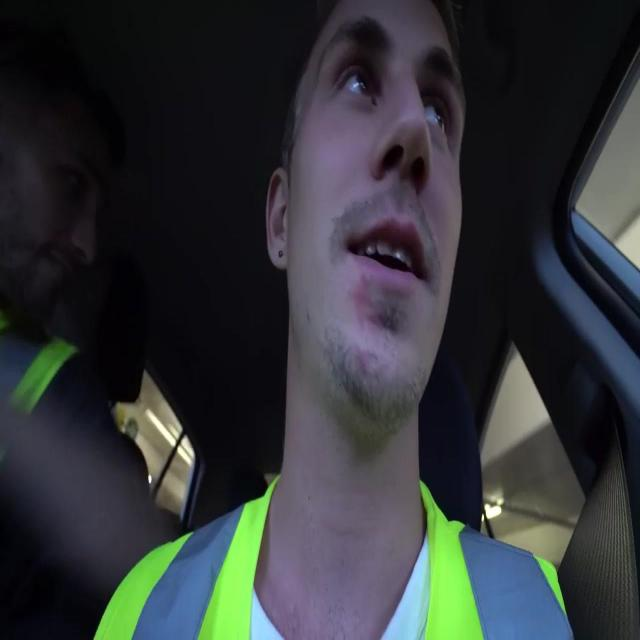Reflective-Jacket: (101, 473, 582, 640)
